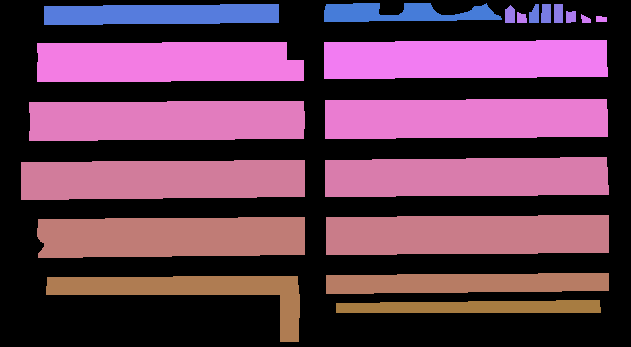parkingspot: (21, 177, 304, 199), (325, 116, 607, 138), (325, 157, 607, 179), (326, 215, 608, 237), (21, 160, 304, 181), (324, 57, 607, 78), (325, 175, 608, 196), (324, 40, 606, 61), (325, 99, 607, 120), (326, 233, 608, 254), (37, 217, 304, 239), (38, 235, 304, 257), (29, 101, 304, 122), (29, 119, 304, 140), (326, 273, 608, 293), (37, 60, 303, 81), (37, 42, 286, 62), (44, 4, 278, 24), (46, 276, 298, 294), (324, 3, 501, 21), (336, 300, 600, 312), (280, 294, 299, 341), (529, 4, 538, 22), (541, 4, 550, 22), (505, 5, 514, 22), (554, 4, 562, 22), (566, 11, 575, 22), (517, 12, 526, 22), (581, 14, 590, 22), (596, 16, 606, 21)
